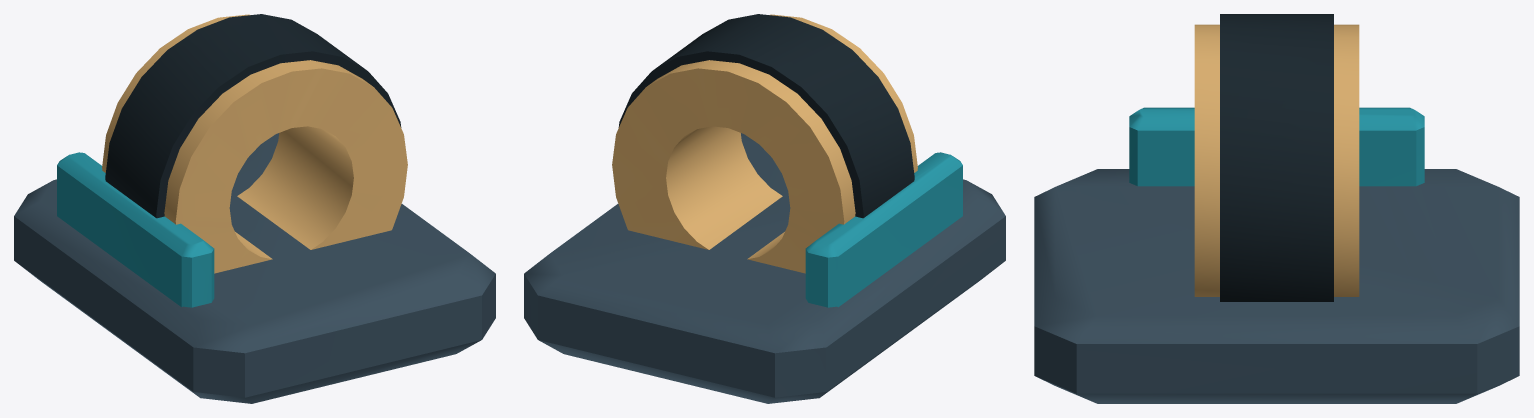
Rendered from CableDrum.glb.
3 views of the same model, side by side, from view 1: azimuth 30°, elevation 25°; view 2: azimuth 150°, elevation 25°; view 3: azimuth 270°, elevation 25° (orthographic). The views are drawn at different scales.
Parts seen in each view (by area): view 1: drum; view 2: drum; view 3: drum.
Boxes of the visible parts, x1,y1,x2,y2 form: drum: (14, 14, 495, 403); drum: (524, 14, 1005, 403); drum: (1034, 14, 1519, 403).
Bounding box in the file's own units: 1.85 × 1.58 × 2.3.
